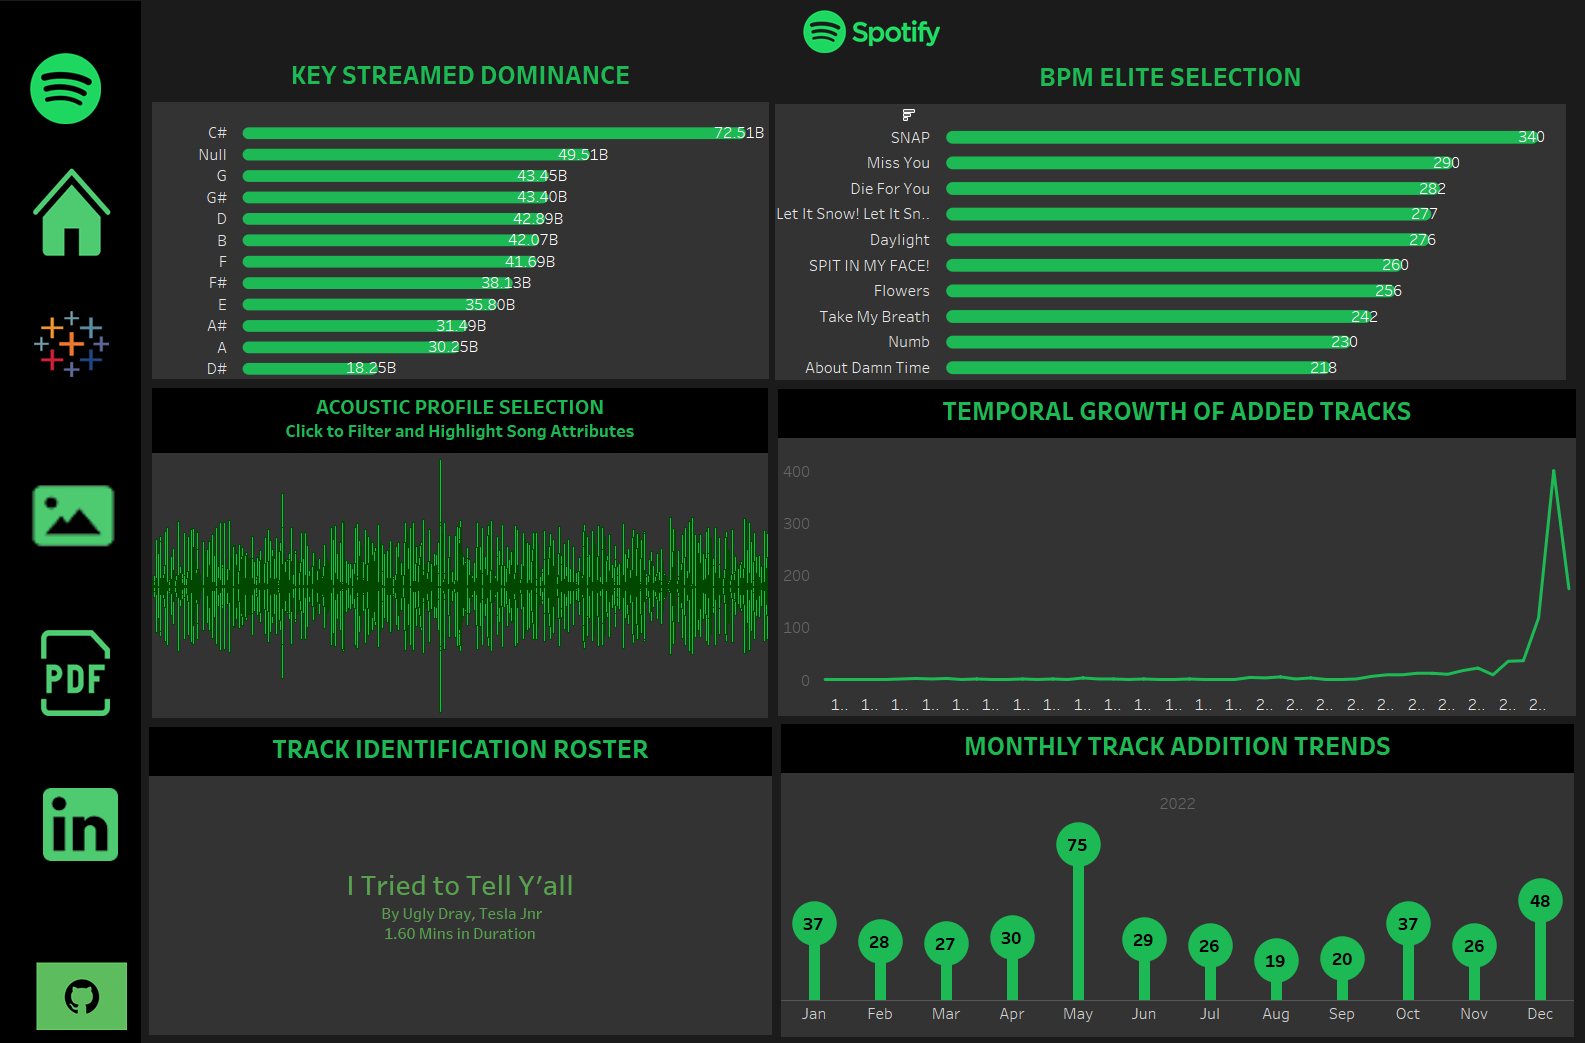

This screenshot's page, from the dashboard's own definition file:
{"tool":"tableau","page":{"name":"Audio Analytics Showcase","canvas":[1600,1900],"ordinal":0},"visuals":[{"type":"blank","box":[0,0,1600,1900]},{"type":"blank","box":[10,10,150,84]},{"type":"image","param":"Image/Spotify.png","box":[149,10,1439,43]},{"type":"blank","box":[178,47,533,284]},{"type":"worksheet","title":"top Key  Stream","mark":"Line","rows":["key"],"box":[149,53,617,326]},{"type":"worksheet","title":"Top Songs by BPM","mark":"Line","rows":["track_name"],"box":[772,55,791,325]},{"type":"blank","box":[854,99,533,284]},{"type":"image","param":"Image/HOME (5).png","box":[16,163,106,98]},{"type":"filter","title":"Tracke added over year month","param":"[federated.1cdatsu0n00sut19jlv3u0av8pve].[yr:Date:ok]","box":[215,173,533,56]},{"type":"image","param":"Image/logos_tableau-icon (5).png","box":[26,304,85,80]},{"type":"worksheet","title":"Sound wave","mark":"Bar","rows":["acousticness_%","acousticness_%"],"cols":["track_name"],"box":[149,388,616,330]},{"type":"worksheet","title":"Tracke added over year ","mark":"Line","rows":["Spotify Dataset_D980092BBBDF46ABB2CB427EDC769C56"],"cols":["Date"],"box":[775,389,798,327]},{"type":"dashboard-object","box":[23,466,96,102]},{"type":"dashboard-object","box":[32,630,81,86]},{"type":"worksheet","title":"Tracke added over year month","mark":"Bar","rows":["Spotify Dataset_D980092BBBDF46ABB2CB427EDC769C56","Spotify Dataset_D980092BBBDF46ABB2CB427EDC769C56"],"cols":["Date","Date"],"box":[778,724,793,313]},{"type":"worksheet","title":"Song","mark":"Automatic","box":[146,727,623,308]},{"type":"image","param":"Image/LInkedin (6).png","box":[35,761,85,128]},{"type":"image","box":[33,948,91,97]}]}

Visuals, with their boxes on the page's 1600x1900 design canvas (x1, y1, x2, y2). These are canvas units, not pixel positions in the 1585x1043 screenshot, which may show the page scaled, cropped or inside an application window:
blank: <region>0, 0, 1600, 1900</region>
blank: <region>10, 10, 160, 94</region>
image: <region>149, 10, 1588, 53</region>
blank: <region>178, 47, 711, 331</region>
"top Key  Stream" worksheet (Line marks): <region>149, 53, 766, 379</region>
"Top Songs by BPM" worksheet (Line marks): <region>772, 55, 1563, 380</region>
blank: <region>854, 99, 1387, 383</region>
image: <region>16, 163, 122, 261</region>
"Tracke added over year month" filter: <region>215, 173, 748, 229</region>
image: <region>26, 304, 111, 384</region>
"Sound wave" worksheet (Bar marks): <region>149, 388, 765, 718</region>
"Tracke added over year " worksheet (Line marks): <region>775, 389, 1573, 716</region>
dashboard-object: <region>23, 466, 119, 568</region>
dashboard-object: <region>32, 630, 113, 716</region>
"Tracke added over year month" worksheet (Bar marks): <region>778, 724, 1571, 1037</region>
"Song" worksheet: <region>146, 727, 769, 1035</region>
image: <region>35, 761, 120, 889</region>
image: <region>33, 948, 124, 1045</region>
